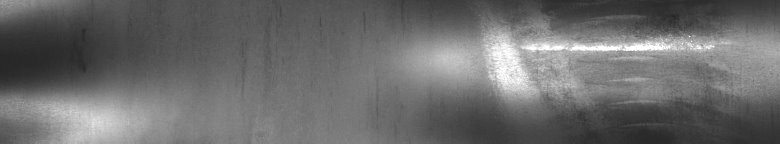ke: (488, 5, 743, 127)
